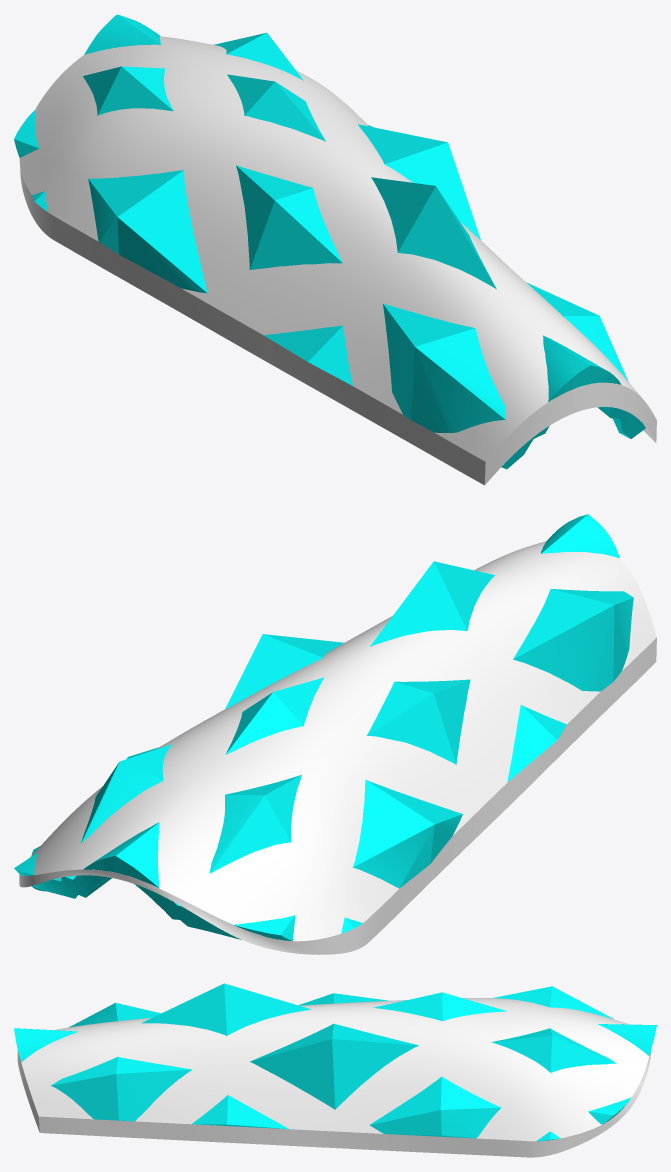
Rendered from spikey-sapphire-coffin-full.glb.
3 views of the same model, one above another, from view 1: azimuth 30°, elevation 25°; view 2: azimuth 150°, elevation 25°; view 3: azimuth 270°, elevation 25° (orthographic). The views are drawn at different scales.
Bounding box in the file's own units: 0.0139 × 0.00743 × 0.0355.
